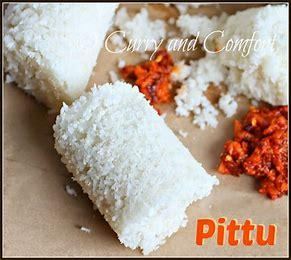Pittu: (52, 74, 214, 248)
